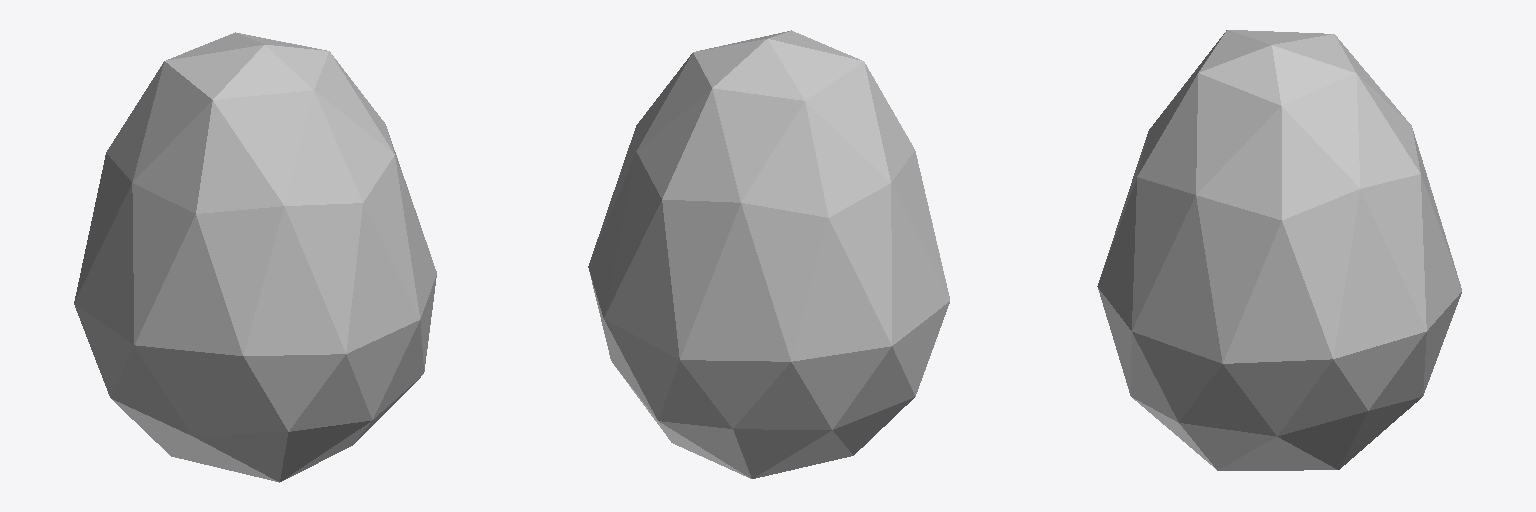
The model's file is palta.obj.
3 views of the same model, side by side, from view 1: azimuth 30°, elevation 25°; view 2: azimuth 150°, elevation 25°; view 3: azimuth 270°, elevation 25° (orthographic).
Parts seen in each view (by area): view 1: Icosphere; view 2: Icosphere; view 3: Icosphere.
Part boxes in pixels (x1,y1,x2,y2): Icosphere: (74, 32, 436, 482); Icosphere: (588, 30, 949, 478); Icosphere: (1097, 30, 1461, 470).
Size of the model in its own units: 0.1947 by 0.2591 by 0.201.